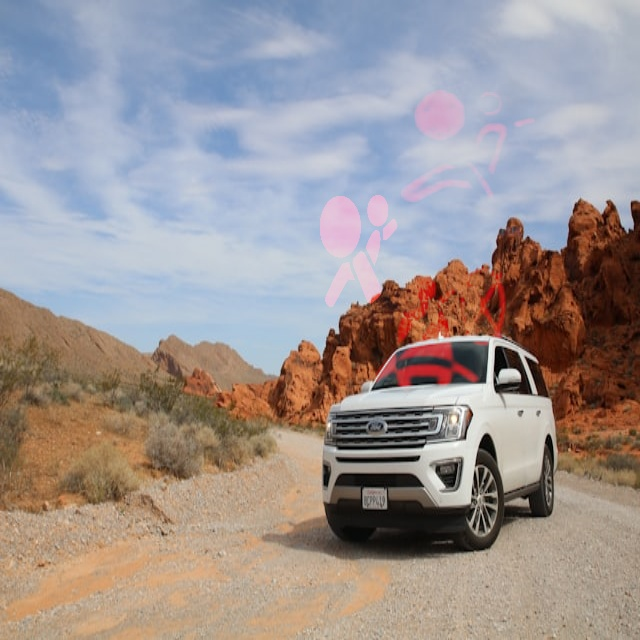symbol: (371, 48, 569, 246), (341, 239, 538, 436), (172, 110, 330, 268), (278, 172, 429, 323)
